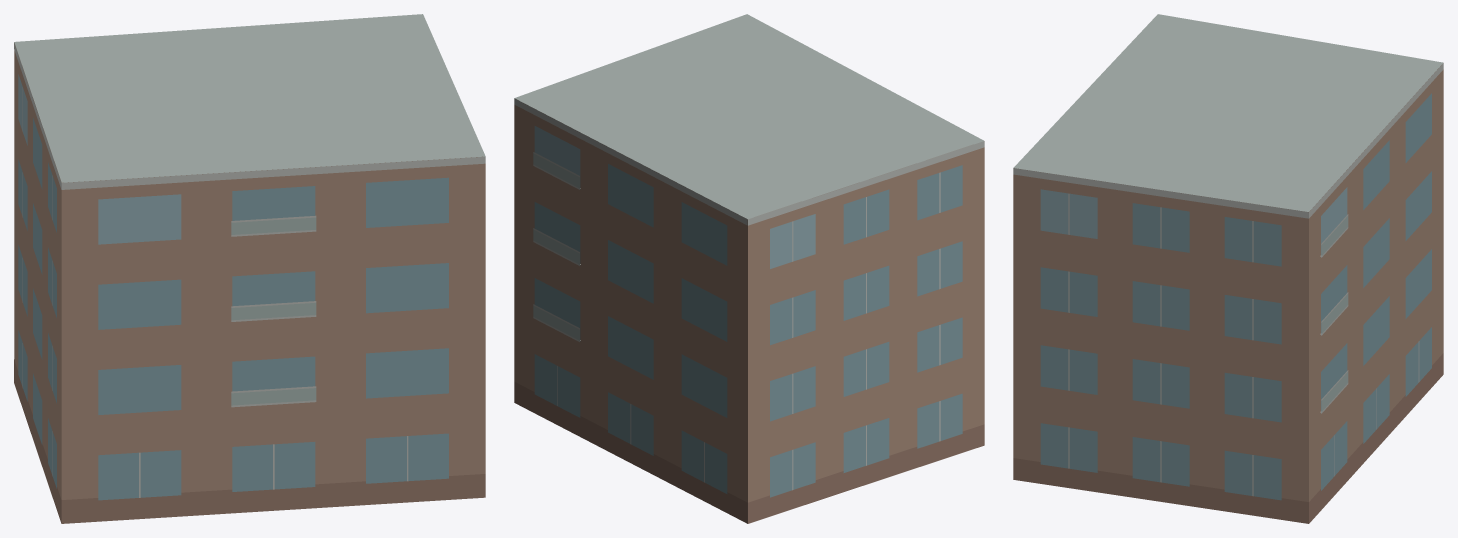
The model's file is survey-upis-32538061.glb.
3 views of the same model, side by side, from view 1: azimuth 30°, elevation 25°; view 2: azimuth 150°, elevation 25°; view 3: azimuth 270°, elevation 25° (orthographic). The views are drawn at different scales.
Visible parts, largest first — view 1: survey-upis-32538061.tmp; view 2: survey-upis-32538061.tmp; view 3: survey-upis-32538061.tmp.
Part boxes in pixels (<box>): survey-upis-32538061.tmp: <box>14,14,485,523</box>; survey-upis-32538061.tmp: <box>514,14,984,523</box>; survey-upis-32538061.tmp: <box>1013,14,1443,523</box>.
Bounding box in the file's own units: 15.82 × 11.6 × 14.52.
